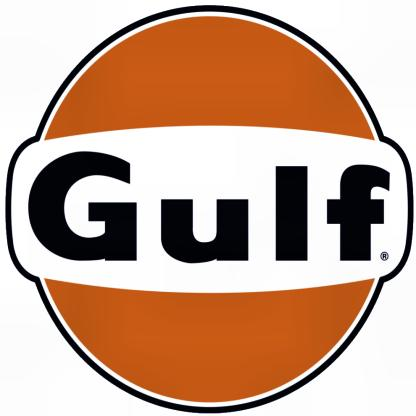Gulf: (5, 1, 412, 412)
